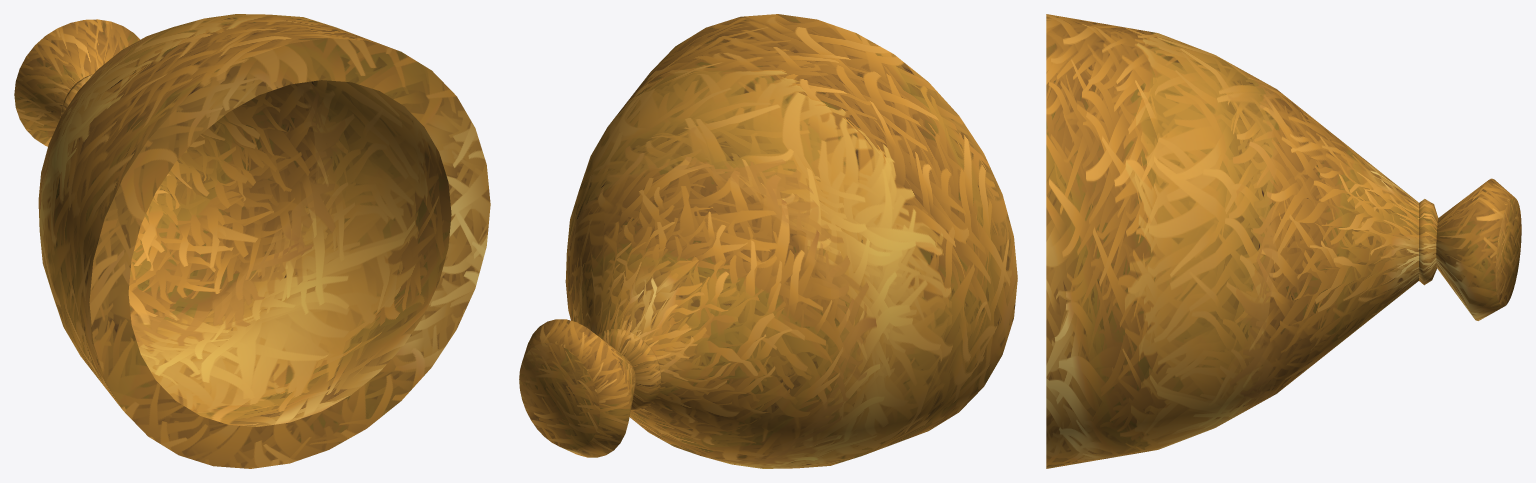
Rendered from BaseHouseRoofCatEar.fbx.
3 renders of one model, left to right at view 1: azimuth 30°, elevation 25°; view 2: azimuth 150°, elevation 25°; view 3: azimuth 270°, elevation 25°, orthographic.
Parts seen in each view (by area): view 1: Cylinder.027; view 2: Cylinder.027; view 3: Cylinder.027.
Part boxes in pixels (x1,y1,x2,y2): Cylinder.027: (14, 14, 490, 468); Cylinder.027: (519, 14, 1017, 468); Cylinder.027: (1046, 14, 1521, 468).
Bounding box in the file's own units: 6.99 × 6.99 × 7.29.
